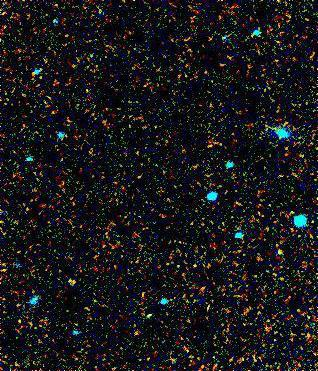star: (57, 266, 87, 296)
